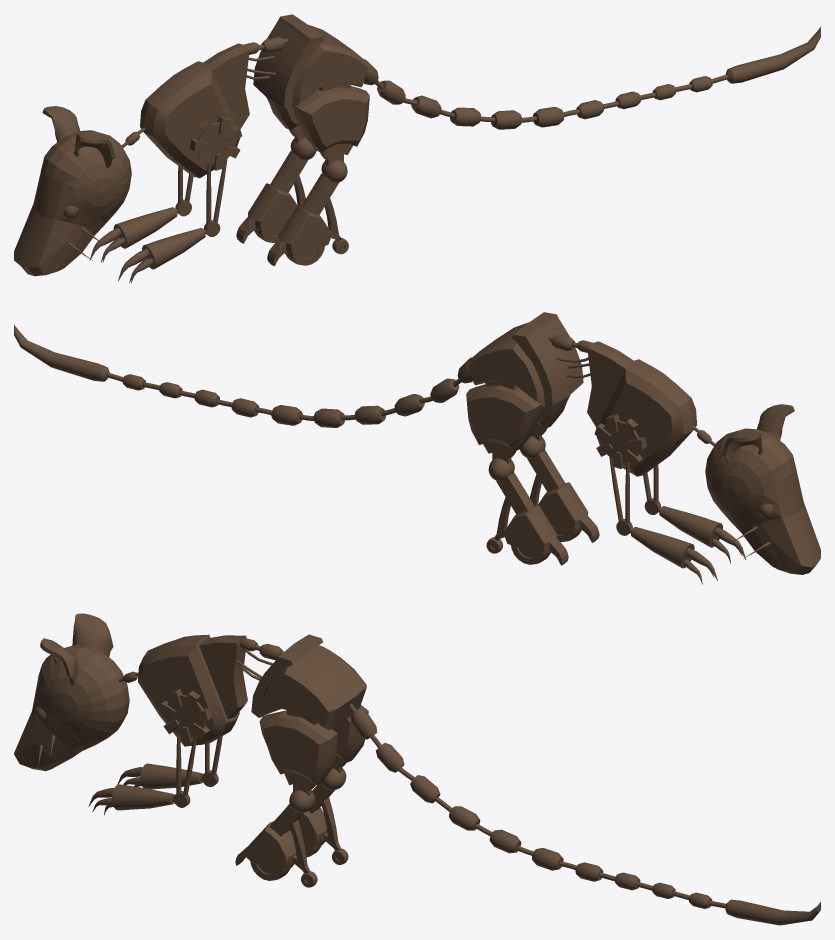
Rendered from Rat_Unwrap.FBX.
3 views of the same model, one above another, from view 1: azimuth 30°, elevation 25°; view 2: azimuth 150°, elevation 25°; view 3: azimuth 330°, elevation 25° (orthographic).
Parts seen in each view (by area): view 1: Head; view 2: Head; view 3: Head.
Boxes of the visible parts, left/top/right/bottom form: Head: left=14, top=14, right=820, bottom=283; Head: left=14, top=312, right=820, bottom=584; Head: left=14, top=613, right=820, bottom=925.
Size of the model in its own units: 155 by 41.36 by 18.14.
